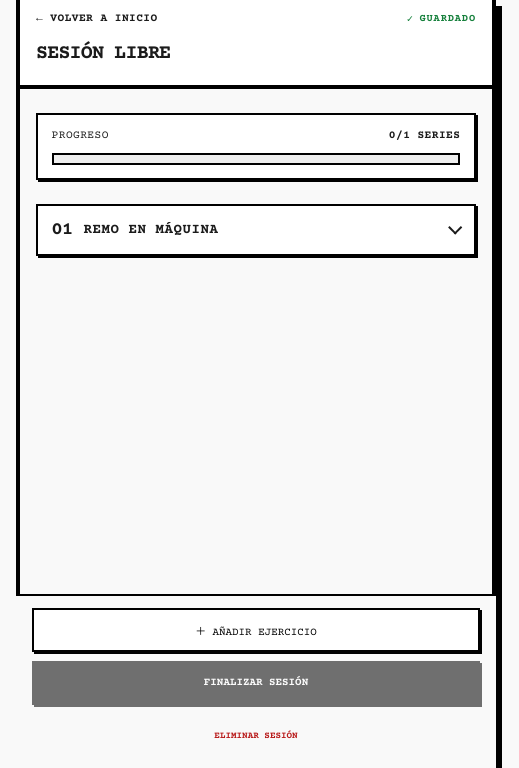
registrar resultados por Serie en la interfaz › cardio continuo admite exactamente una Serie y no ofrece añadir más
The width and height of the screenshot is (519, 768).
Click the button "01 Remo en máquina" at (151, 230), box x1=38 y1=206 x2=474 y2=254
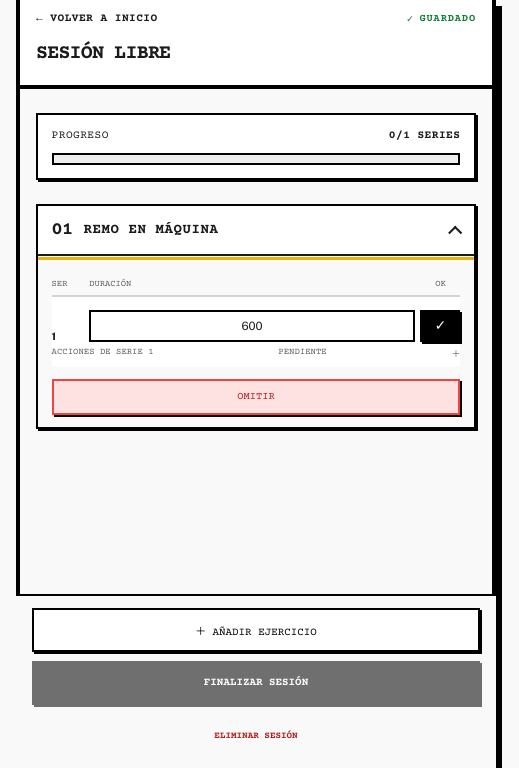
Now the 1st field named "Duración (seg)" is shown, box x1=89 y1=310 x2=415 y2=342
